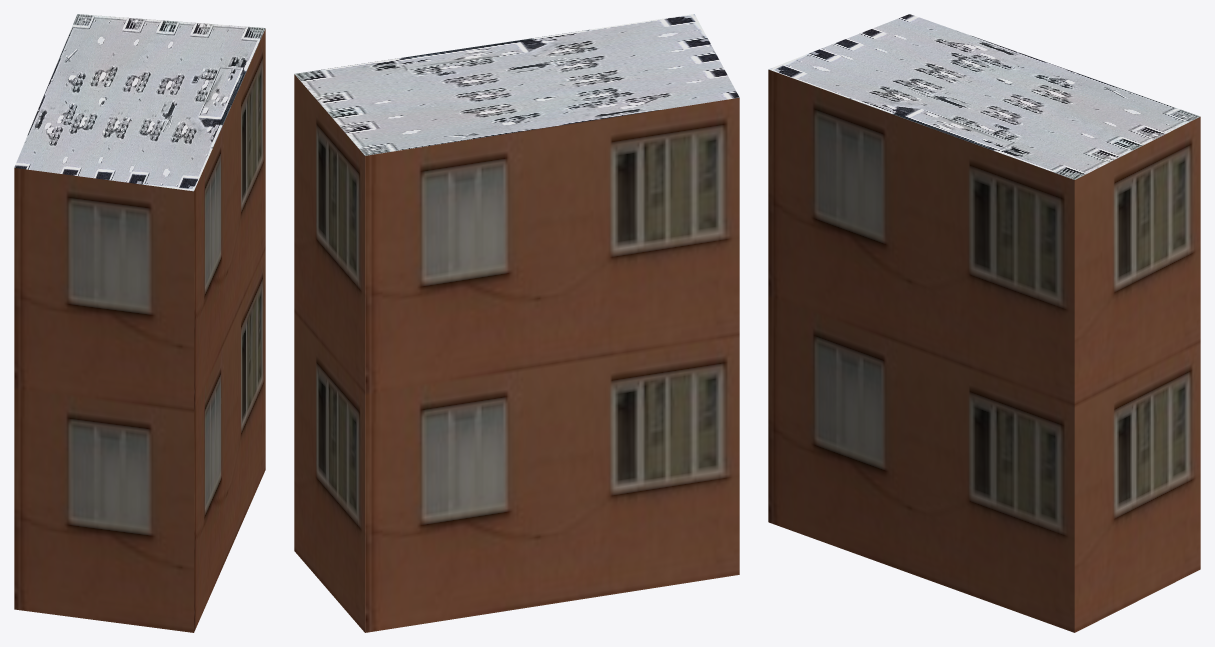
The model's file is ResTex__230.fbx.
3 renders of one model, left to right at view 1: azimuth 30°, elevation 25°; view 2: azimuth 150°, elevation 25°; view 3: azimuth 270°, elevation 25°, orthographic. The views are drawn at different scales.
Parts seen in each view (by area): view 1: CityEngineMaterial_20_m, CityEngineMaterial_4_m; view 2: CityEngineMaterial_20_m, CityEngineMaterial_4_m; view 3: CityEngineMaterial_20_m, CityEngineMaterial_4_m.
Boxes of the visible parts, x1=… form: CityEngineMaterial_20_m: x1=14, y1=29, x2=265, y2=632; CityEngineMaterial_4_m: x1=14, y1=14, x2=265, y2=191; CityEngineMaterial_20_m: x1=294, y1=74, x2=739, y2=632; CityEngineMaterial_4_m: x1=294, y1=14, x2=739, y2=155; CityEngineMaterial_20_m: x1=768, y1=69, x2=1200, y2=632; CityEngineMaterial_4_m: x1=768, y1=14, x2=1200, y2=179.
Size of the model in its own units: 4.72 by 6 by 5.19.
Materials: 2 (2 with a texture image).
